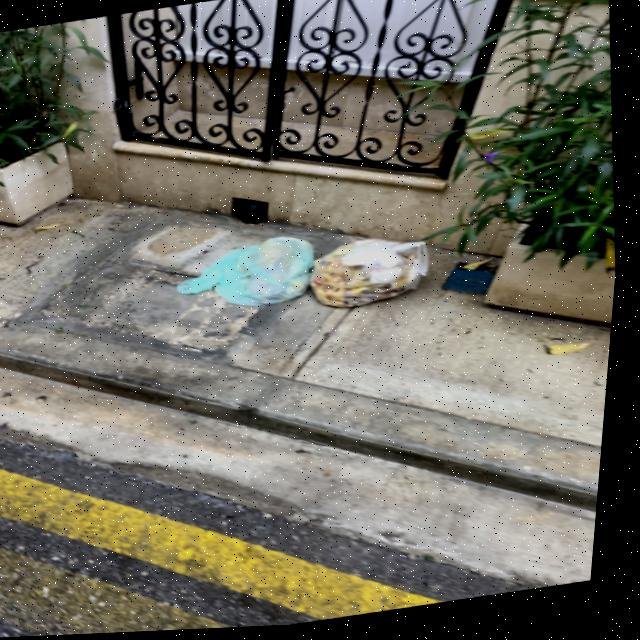Organic Waste -White Bag-: (311, 234, 440, 319)
Recycled Waste -Grey or Green Bag-: (176, 234, 326, 335)
